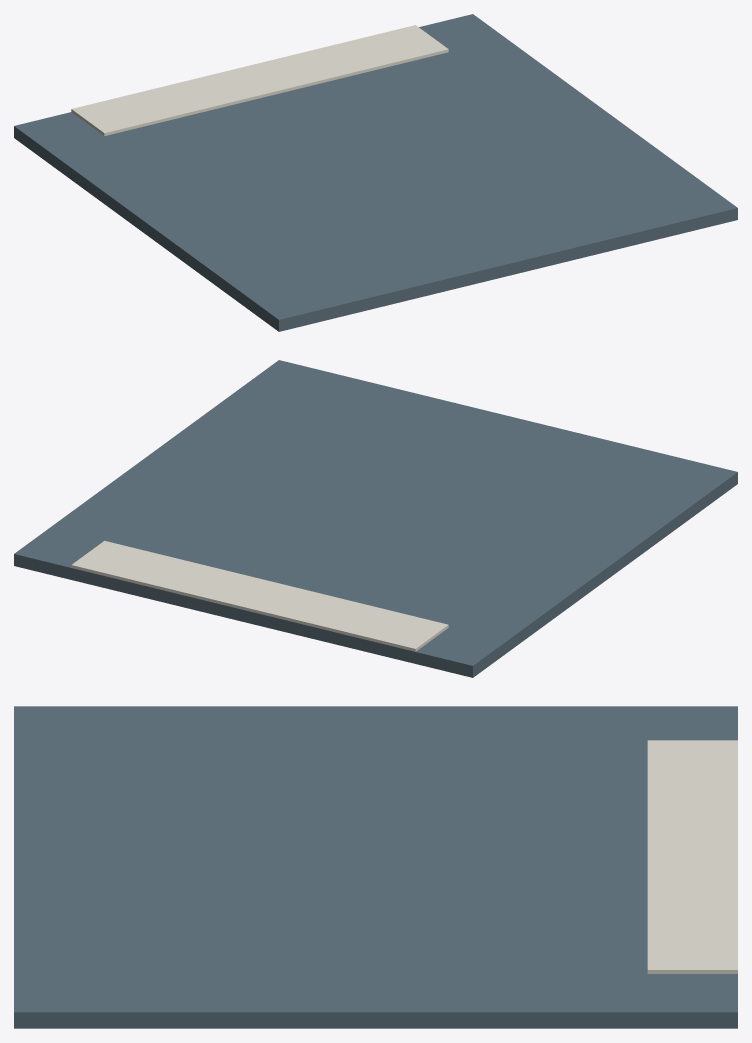
Rendered from voxel-city-districts-road-t-junction-4ee6a968__24814.glb.
3 views of the same model, one above another, from view 1: azimuth 30°, elevation 25°; view 2: azimuth 150°, elevation 25°; view 3: azimuth 270°, elevation 25° (orthographic). The views are drawn at different scales.
Parts seen in each view (by area): view 1: road-t-junction-dark, road-t-junction-concrete; view 2: road-t-junction-dark, road-t-junction-concrete; view 3: road-t-junction-dark, road-t-junction-concrete.
Part boxes in pixels (x1=…): road-t-junction-dark: x1=14, y1=14, x2=737, y2=331; road-t-junction-concrete: x1=71, y1=25, x2=448, y2=135; road-t-junction-dark: x1=14, y1=360, x2=737, y2=677; road-t-junction-concrete: x1=71, y1=540, x2=448, y2=651; road-t-junction-dark: x1=14, y1=706, x2=737, y2=1028; road-t-junction-concrete: x1=647, y1=740, x2=737, y2=973.
Bounding box in the file's own units: 8 × 0.25 × 8.
